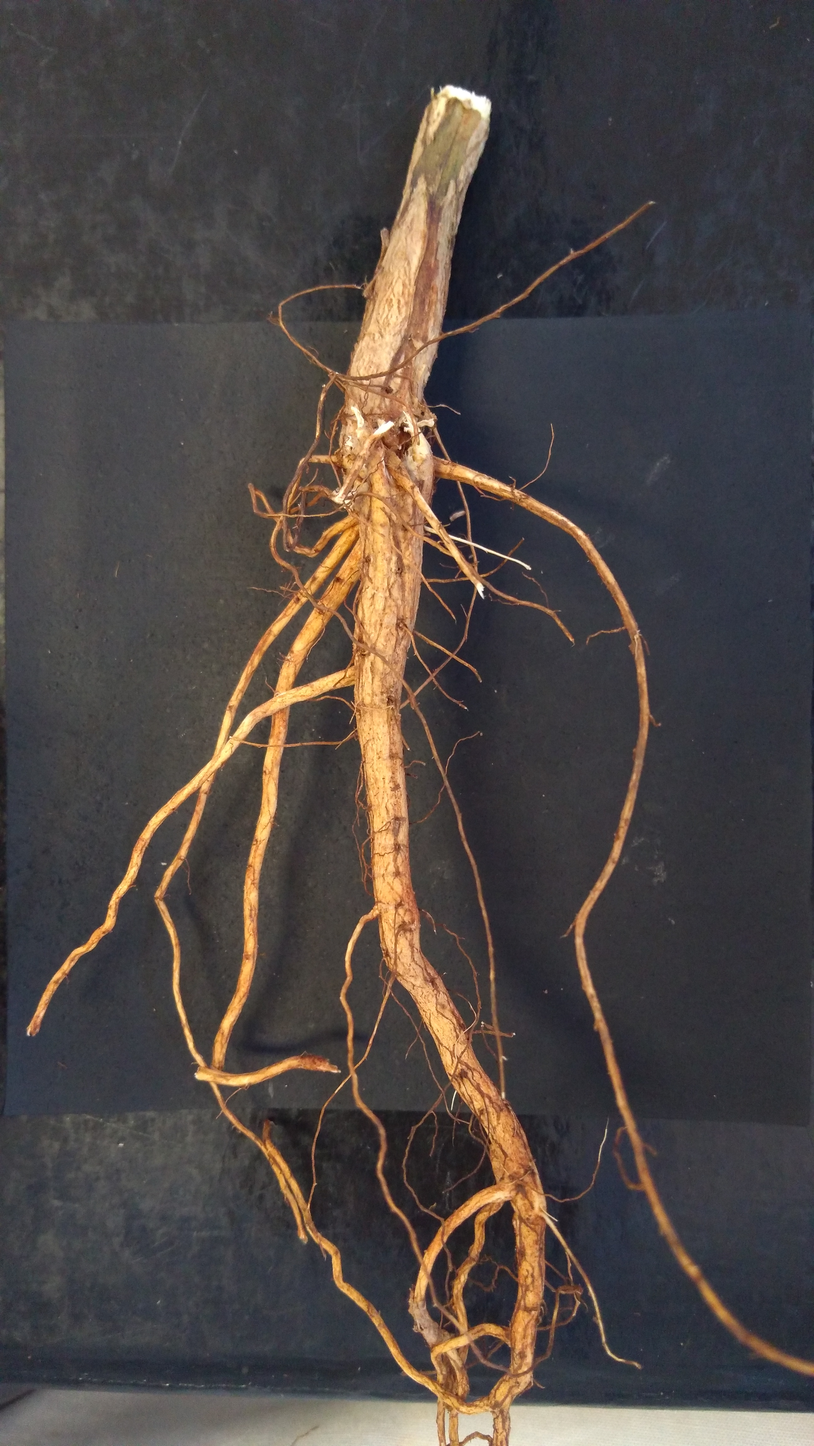nodule: (341, 473, 370, 514)
